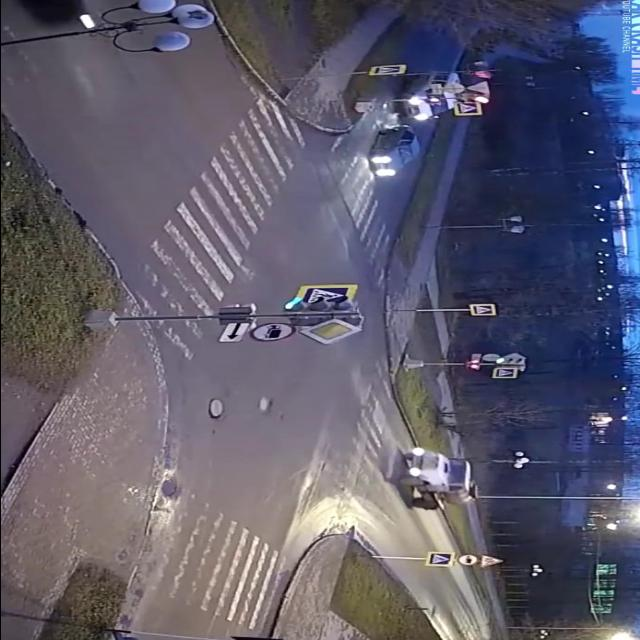non_accident: (357, 68, 471, 183)
